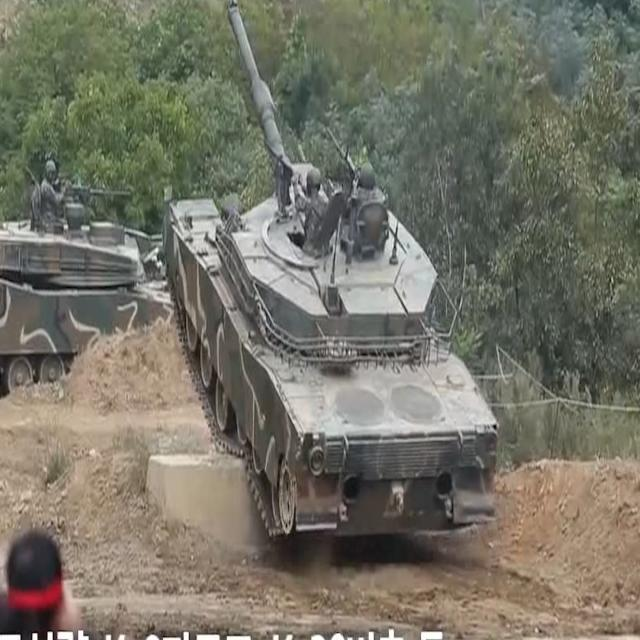korea tank: (161, 1, 499, 544)
